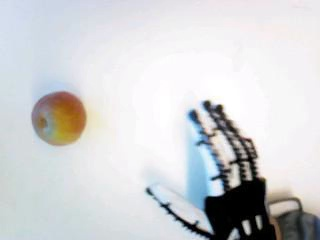apple: (31, 90, 85, 146)
hand: (147, 99, 277, 240)
